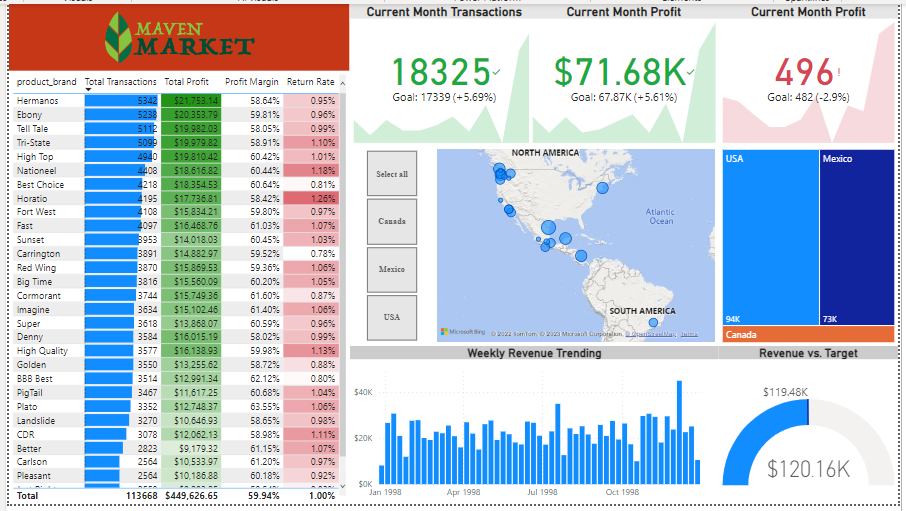

This screenshot's page, from the dashboard's own definition file:
{"tool":"powerbi","page":{"name":"Topline Performance","canvas":[1280,720],"ordinal":0},"visuals":[{"type":"image","box":[0,0,490.5,95.7],"z":0},{"type":"tableEx","fields":{"Values":["Products.product_brand","Key Measures.Total Transactions","Key Measures.Total Profit","Key Measures.Profit Margin","Key Measures.Return Rate"]},"box":[0,96.3,490.3,624.5],"z":1000},{"type":"kpi","title":"Current Month Transactions","fields":{"Indicator":["Key Measures.Total Transactions"],"TrendLine":["Calendar.Start of Month"],"Goal":["Key Measures.Last Month Transactions"]},"box":[490.3,0,271.8,204.7],"z":2000},{"type":"kpi","title":"Current Month Profit","fields":{"TrendLine":["Calendar.Start of Month"],"Indicator":["Key Measures.Total Profit"],"Goal":["Key Measures.Last Month Profit"]},"box":[748.4,0,273.5,204.7],"z":3000},{"type":"kpi","title":"Current Month Profit","fields":{"TrendLine":["Calendar.Start of Month"],"Indicator":["Key Measures.Total Returns"],"Goal":["Key Measures.Last Month Return"]},"box":[1021.9,0,258.1,204.7],"z":4000},{"type":"map","fields":{"Category":["Stores.store_city"],"Size":["Key Measures.Total Transactions"]},"box":[612,205,410,287],"z":5000},{"type":"slicer","fields":{"Values":["Stores.store_country"]},"box":[490,205,122,287],"z":6000},{"type":"treemap","fields":{"Group":["Stores.store_country","Stores.store_state","Stores.store_city"],"Values":["Key Measures.Total Transactions"]},"box":[1022.4,204.5,257.8,288],"z":7000},{"type":"columnChart","title":"Weekly Revenue Trending","fields":{"Y":["Key Measures.Total Revenue"],"Category":["Calendar.Start of Week"]},"box":[490.5,492.2,531.5,229],"z":8000},{"type":"gauge","title":"Revenue vs. Target","fields":{"Y":["Key Measures.Total Revenue"],"TargetValue":["Key Measures.Revenue Target"]},"box":[1021.9,492.2,258.1,227.3],"z":9000}]}

Visuals, with their boxes in screenshot pixels (x1, y1, x2, y2), scaled from the page's 1280x720 canvas onto the 906x511 screenshot:
image: box=[0, 0, 347, 68]
tableEx - Products.product_brand x Key Measures.Total Transactions: box=[0, 68, 347, 510]
"Current Month Transactions" kpi: box=[347, 0, 539, 145]
"Current Month Profit" kpi: box=[530, 0, 723, 145]
"Current Month Profit" kpi: box=[723, 0, 905, 145]
map - Stores.store_city x Key Measures.Total Transactions: box=[433, 145, 723, 349]
slicer - Stores.store_country: box=[347, 145, 433, 349]
treemap - Stores.store_country x Stores.store_state: box=[724, 145, 905, 350]
"Weekly Revenue Trending" columnChart: box=[347, 349, 723, 510]
"Revenue vs. Target" gauge: box=[723, 349, 905, 510]
